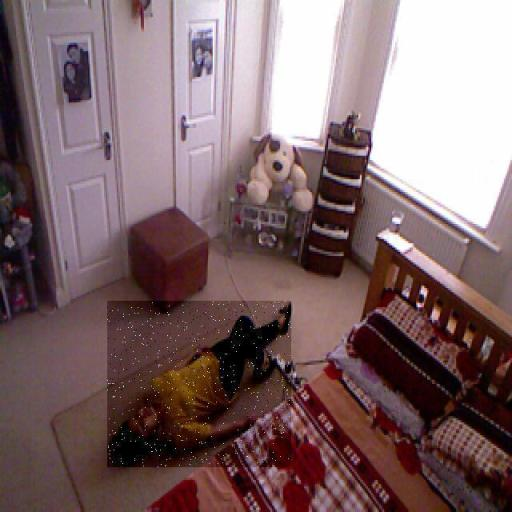Fall: (107, 301, 291, 467)
